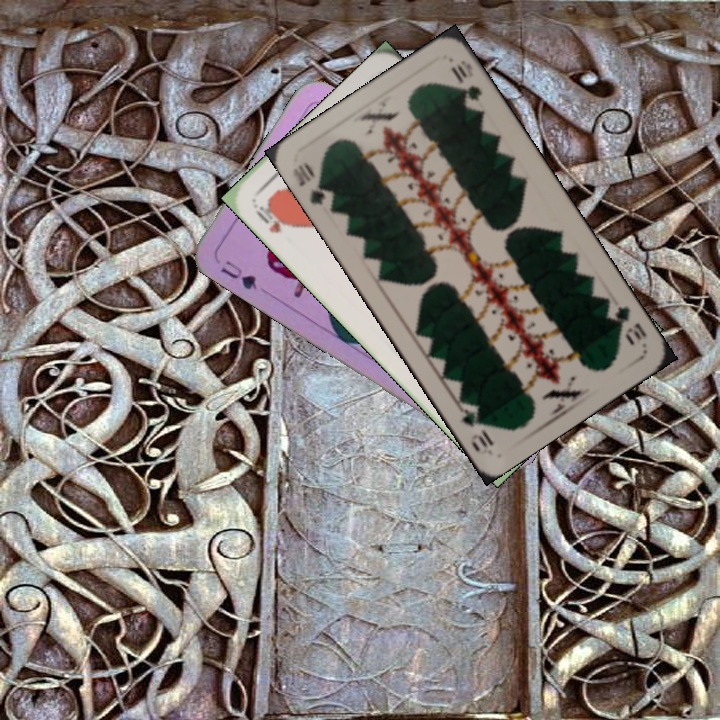G10: (288, 157, 337, 208), (608, 302, 649, 349)
GU: (216, 256, 260, 293)
HO: (249, 196, 293, 236)
